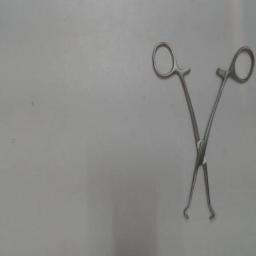Babcock Tissue Forceps: (145, 38, 255, 224)
